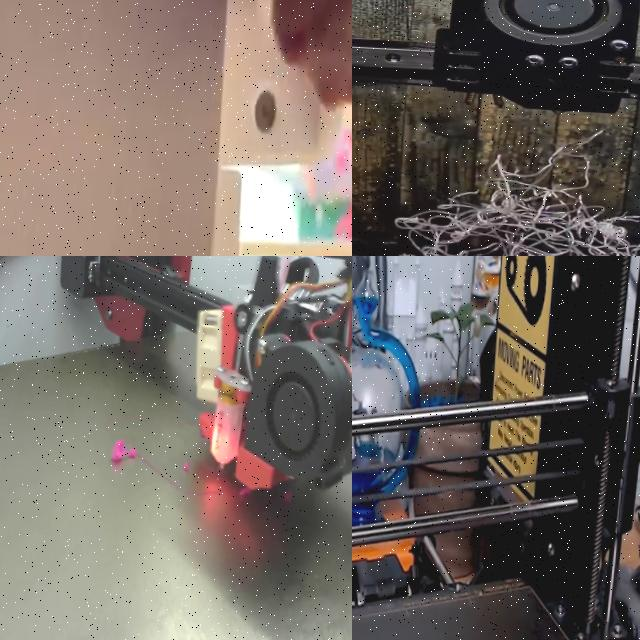spaghetti: (352, 135, 640, 256), (112, 440, 225, 496), (282, 489, 293, 504), (239, 487, 252, 497), (183, 462, 189, 472)
